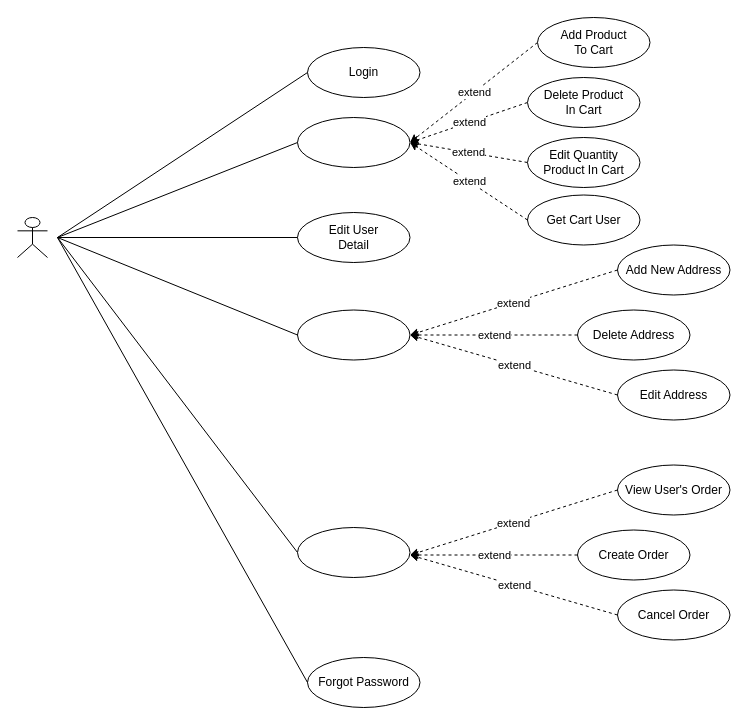
Some shapes in this 748 by 725 pixel diagram are drawn without their labels. The shapes that lost their labels are listed below. From the top down, each one's centre as x and y in pixels, then its label:
the point at 353,142: Manage Product In Cart
the point at 32,237: User
the point at 353,334: Manage User's Address
the point at 353,552: Manage User's Order
